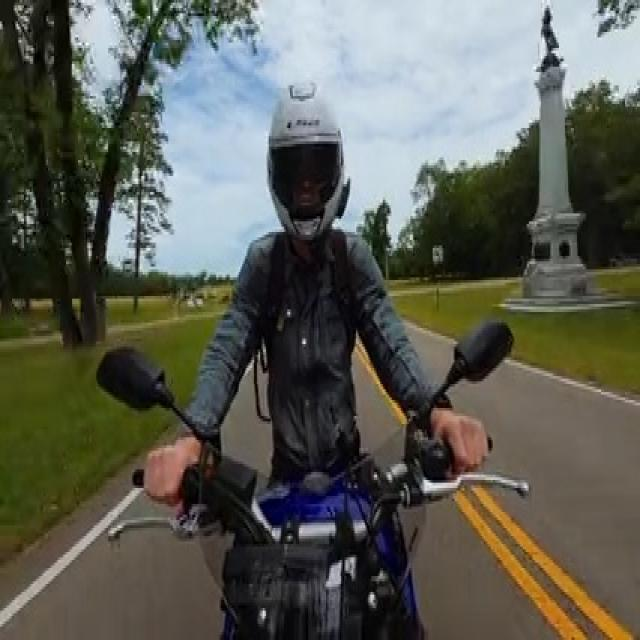Helmet_Wearer: (256, 72, 353, 235)
Person: (156, 74, 489, 512)
